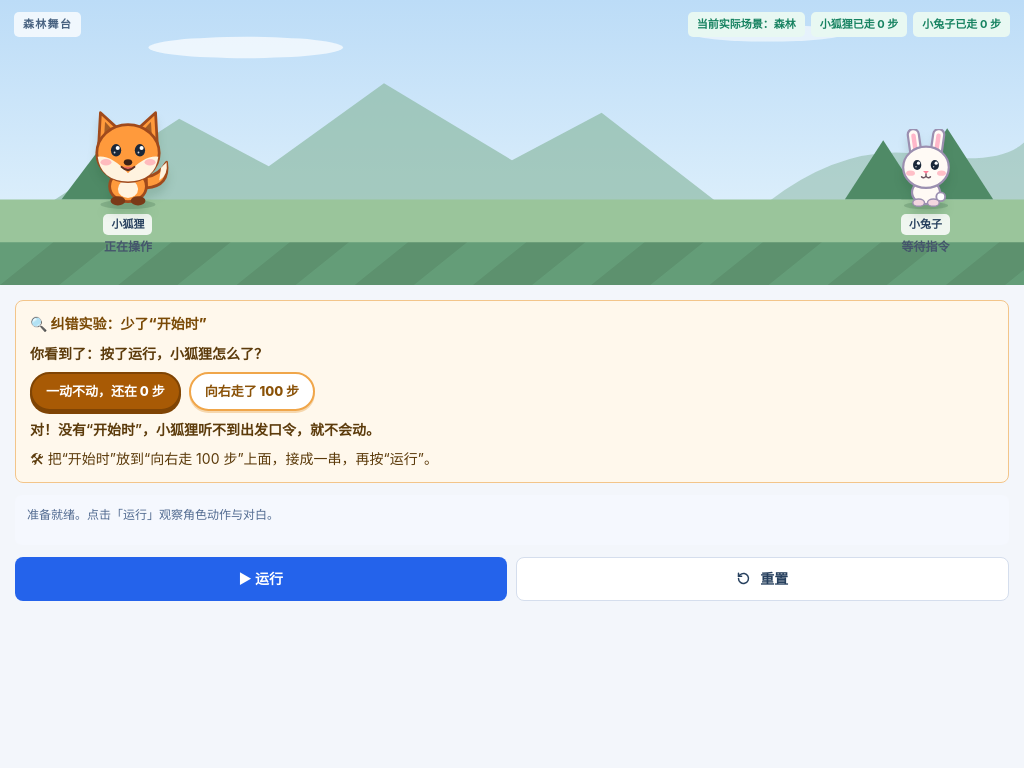
Test case: PlayableStage designed mistake step (TQ-010) › the fixed program runs correctly and the panel confirms the fix
The width and height of the screenshot is (1024, 768).
Click the button with test id "run-code-button" at (261, 579), box [15,557,506,601]
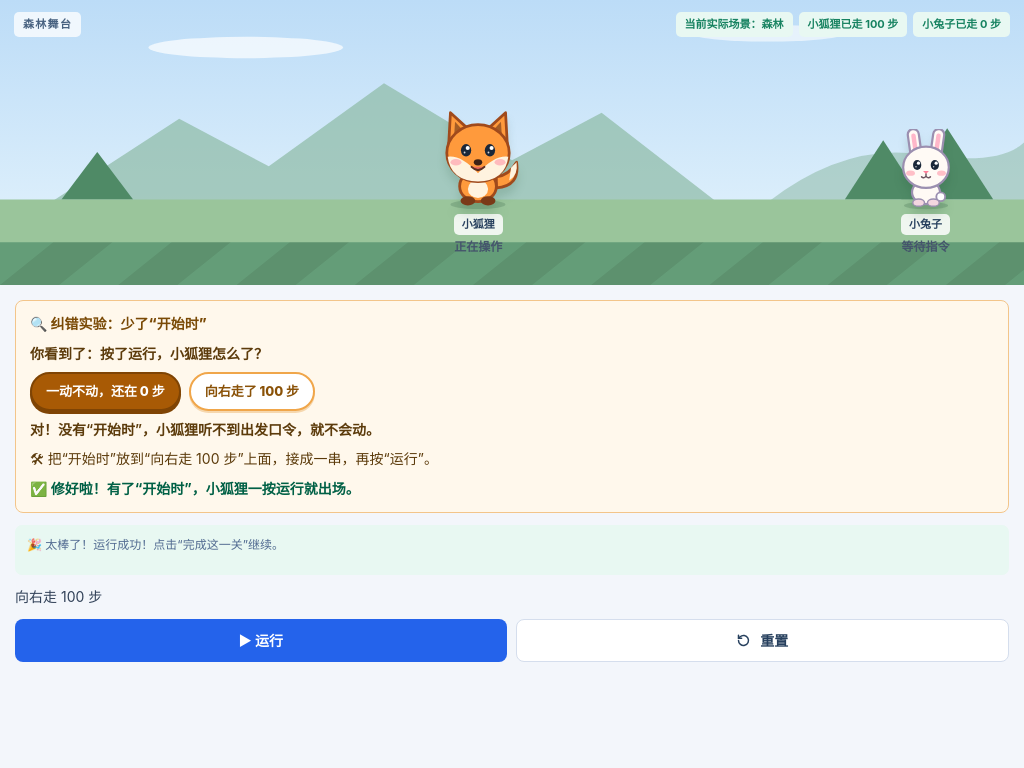
Expected: the text with test id "mistake-fixed" shows "修好啦", [51,480,360,497]
